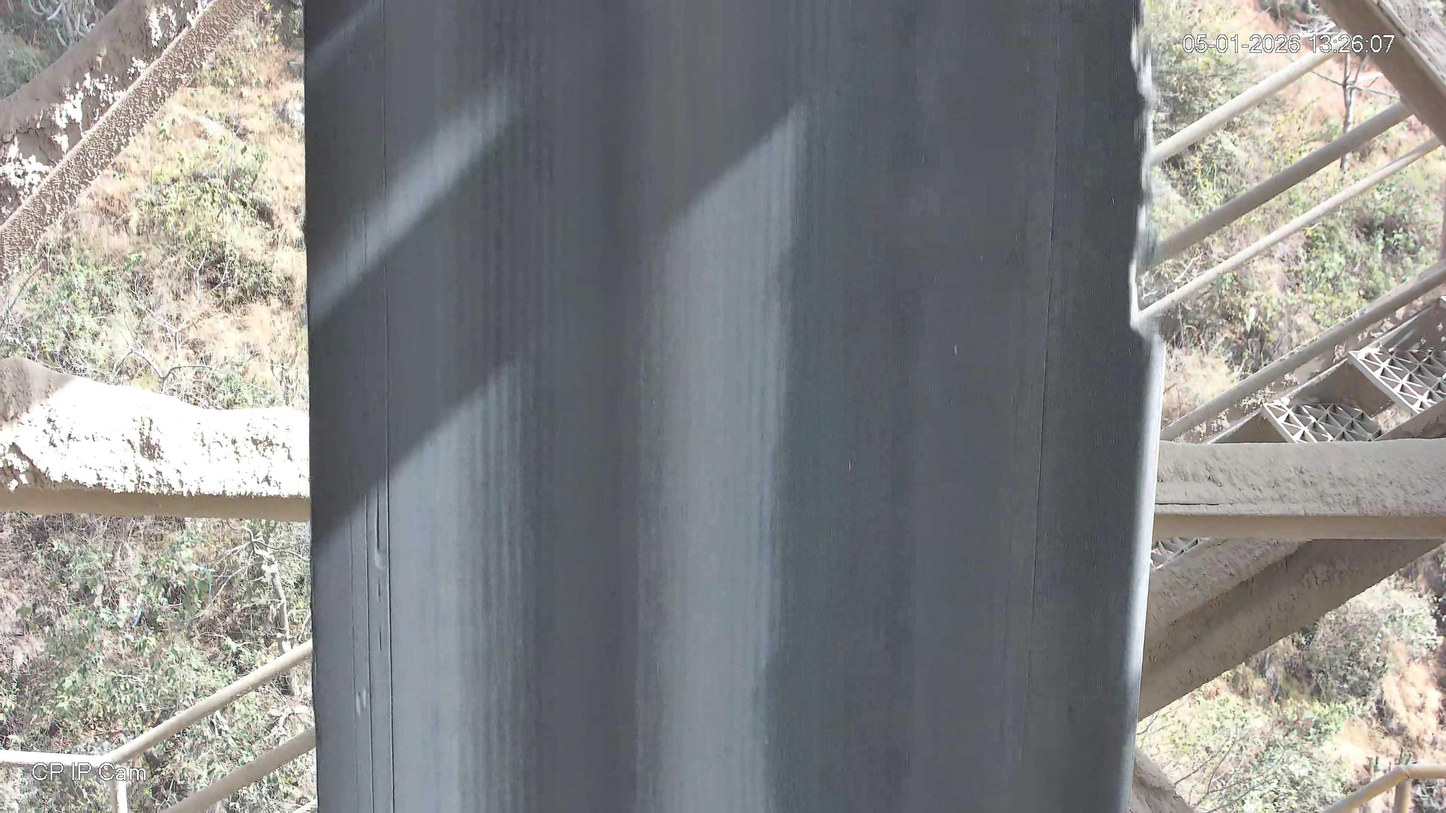belt_roi: (308, 0, 1168, 813)
